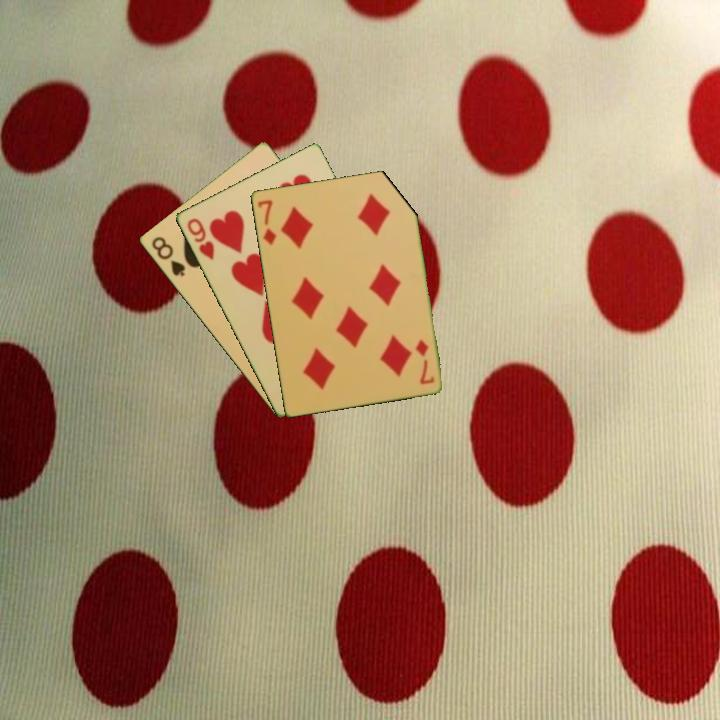7d: (411, 336, 437, 387), (254, 196, 279, 248)
8s: (148, 233, 188, 279)
9h: (183, 214, 217, 263)
